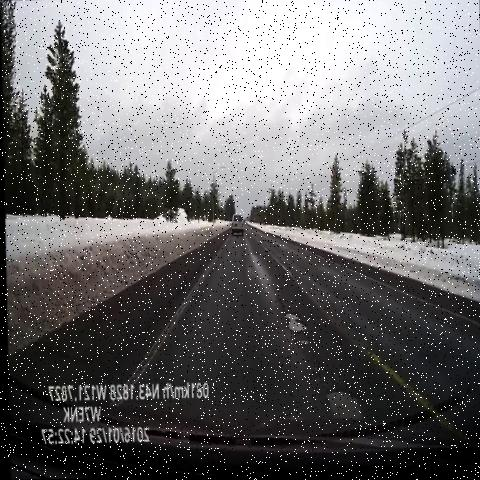pothole: (315, 362, 368, 432), (269, 288, 313, 355), (246, 242, 265, 268)
